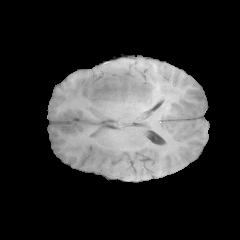glioma: (87, 71, 174, 113)
